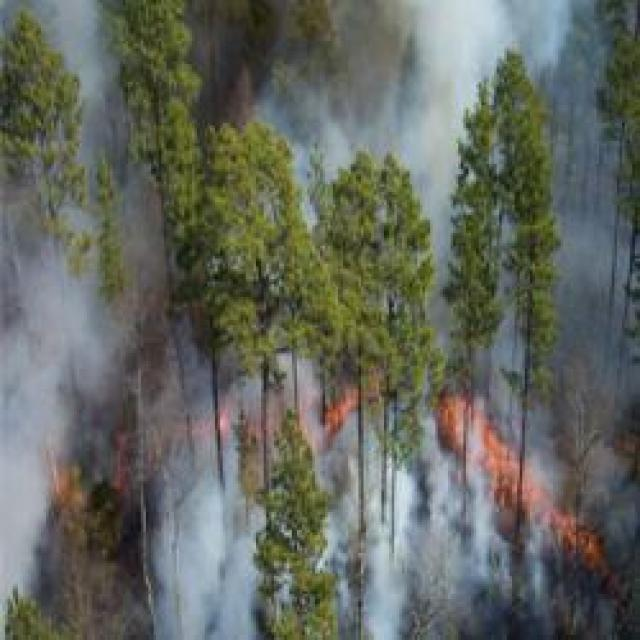fire: (438, 374, 640, 606), (311, 379, 379, 439)
